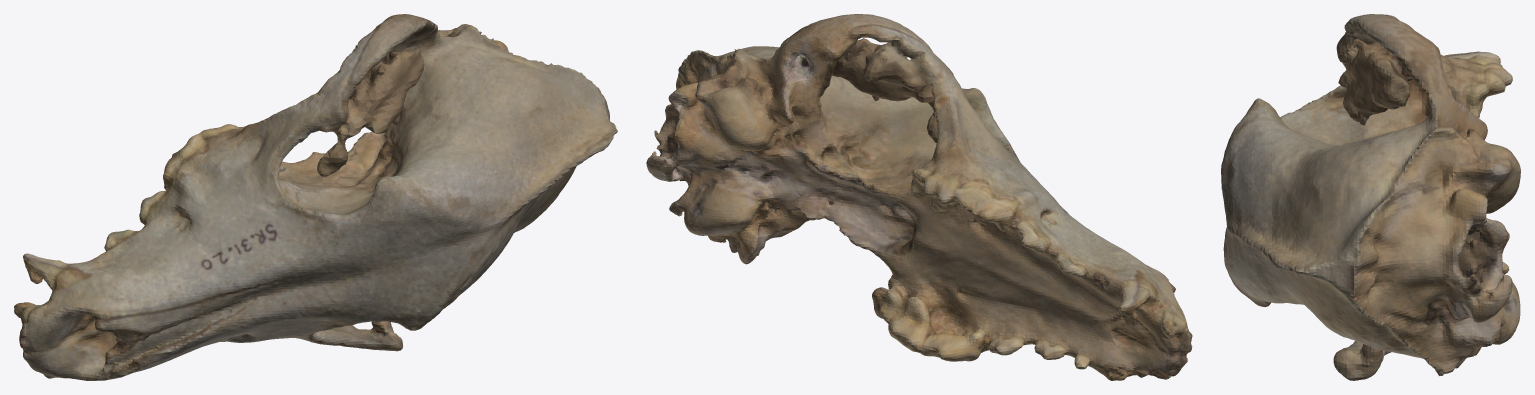
3 renders of one model, left to right at view 1: azimuth 30°, elevation 25°; view 2: azimuth 150°, elevation 25°; view 3: azimuth 270°, elevation 25°, orthographic. The views are drawn at different scales.
Visible parts, largest first — view 1: Node; view 2: Node; view 3: Node.
Part boxes in pixels (x1,y1,x2,y2): Node: [14, 14, 617, 380]; Node: [646, 14, 1192, 380]; Node: [1221, 14, 1520, 380].
Bounding box in the file's own units: 199 × 106 × 79.11.
Materials: 1 (1 with a texture image).
